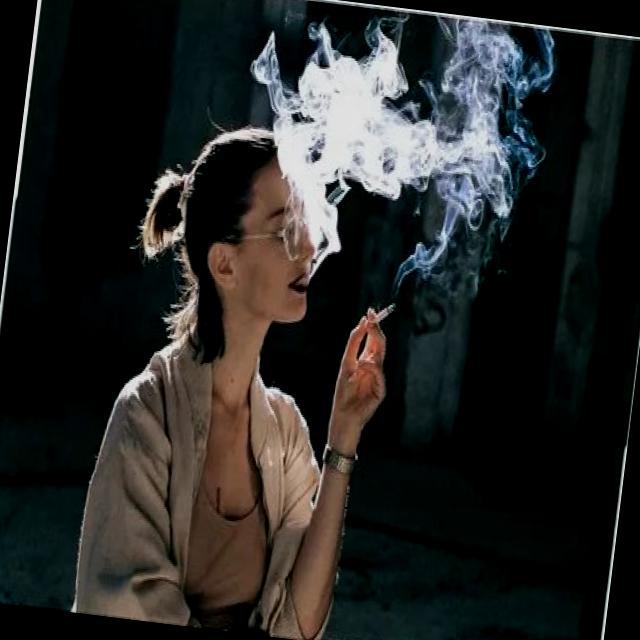smoke: (364, 296, 398, 335)
